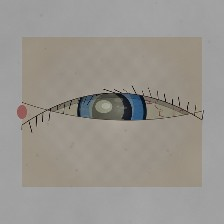corneal_ulcer: (78, 87, 135, 132)
